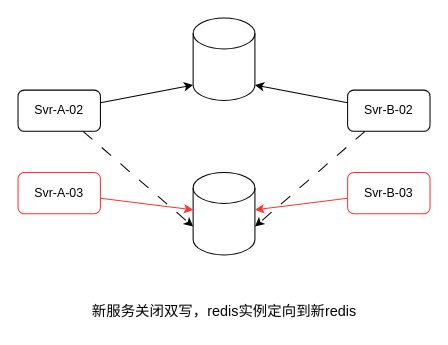
This 448x345 diagram has some shape labels left out. Here are the shapes that lost their labels. From the top down, the centre of each, then its label:
At pixel 223 58: "redis-01".
At pixel 223 213: "redis-02".
